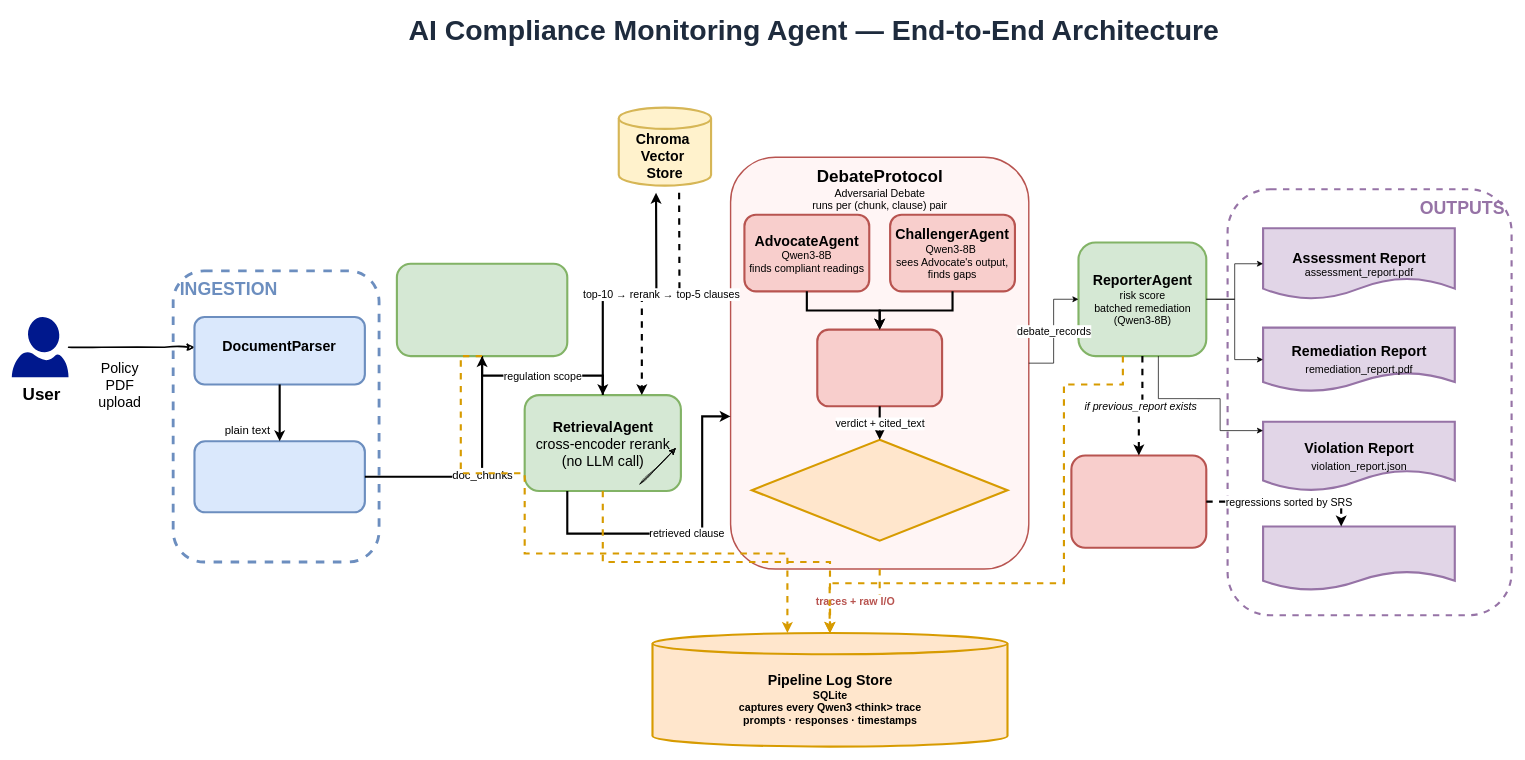
Image size: 1525x760. Some labels were removed from this diagram. The centre of each missing label's shape, as x and y in pixels:
ArbiterAgent Qwen3-8B reads both sides, final verdict + risk: the point at 879,367
ClassifierAgent Qwen3-8B doc_type → regulation_scope: the point at 481,309
DocumentChunker 512 token, 50 overlap: the point at 279,476
Drift Report drift_report.json (conditional): the point at 1359,558
DriftDetector Semantic Regression Score runs only if previous report exists: the point at 1138,501
Hallucination Guard cited_text in chunk? else downgrade to Partial: the point at 879,489
